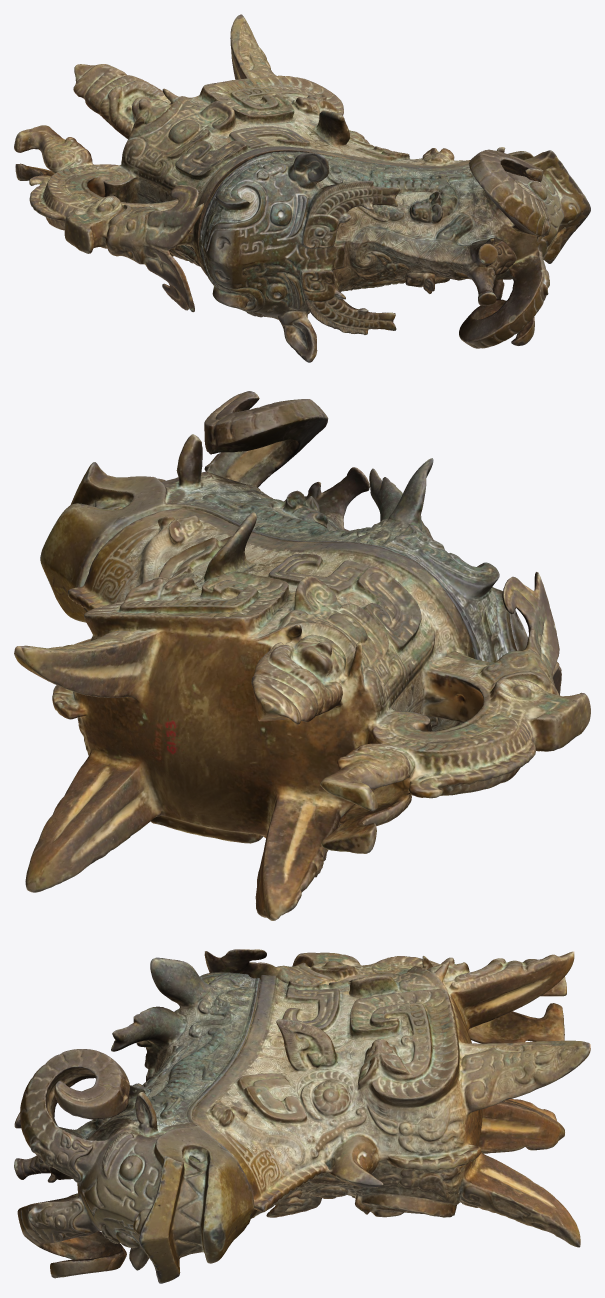
The model's file is preview.glb.
The picture shows the model from 3 angles, top to bottom: view 1: azimuth 30°, elevation 25°; view 2: azimuth 150°, elevation 25°; view 3: azimuth 270°, elevation 25°; orthographic projection. The views are drawn at different scales.
Bounding box in the file's own units: 0.325 × 0.143 × 0.3171.
Materials: 2 (2 with a texture image).
